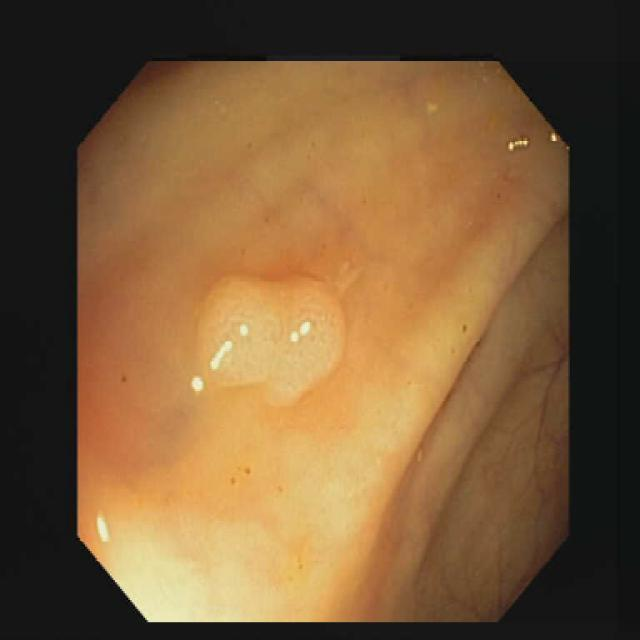tumor: (195, 276, 343, 404)
